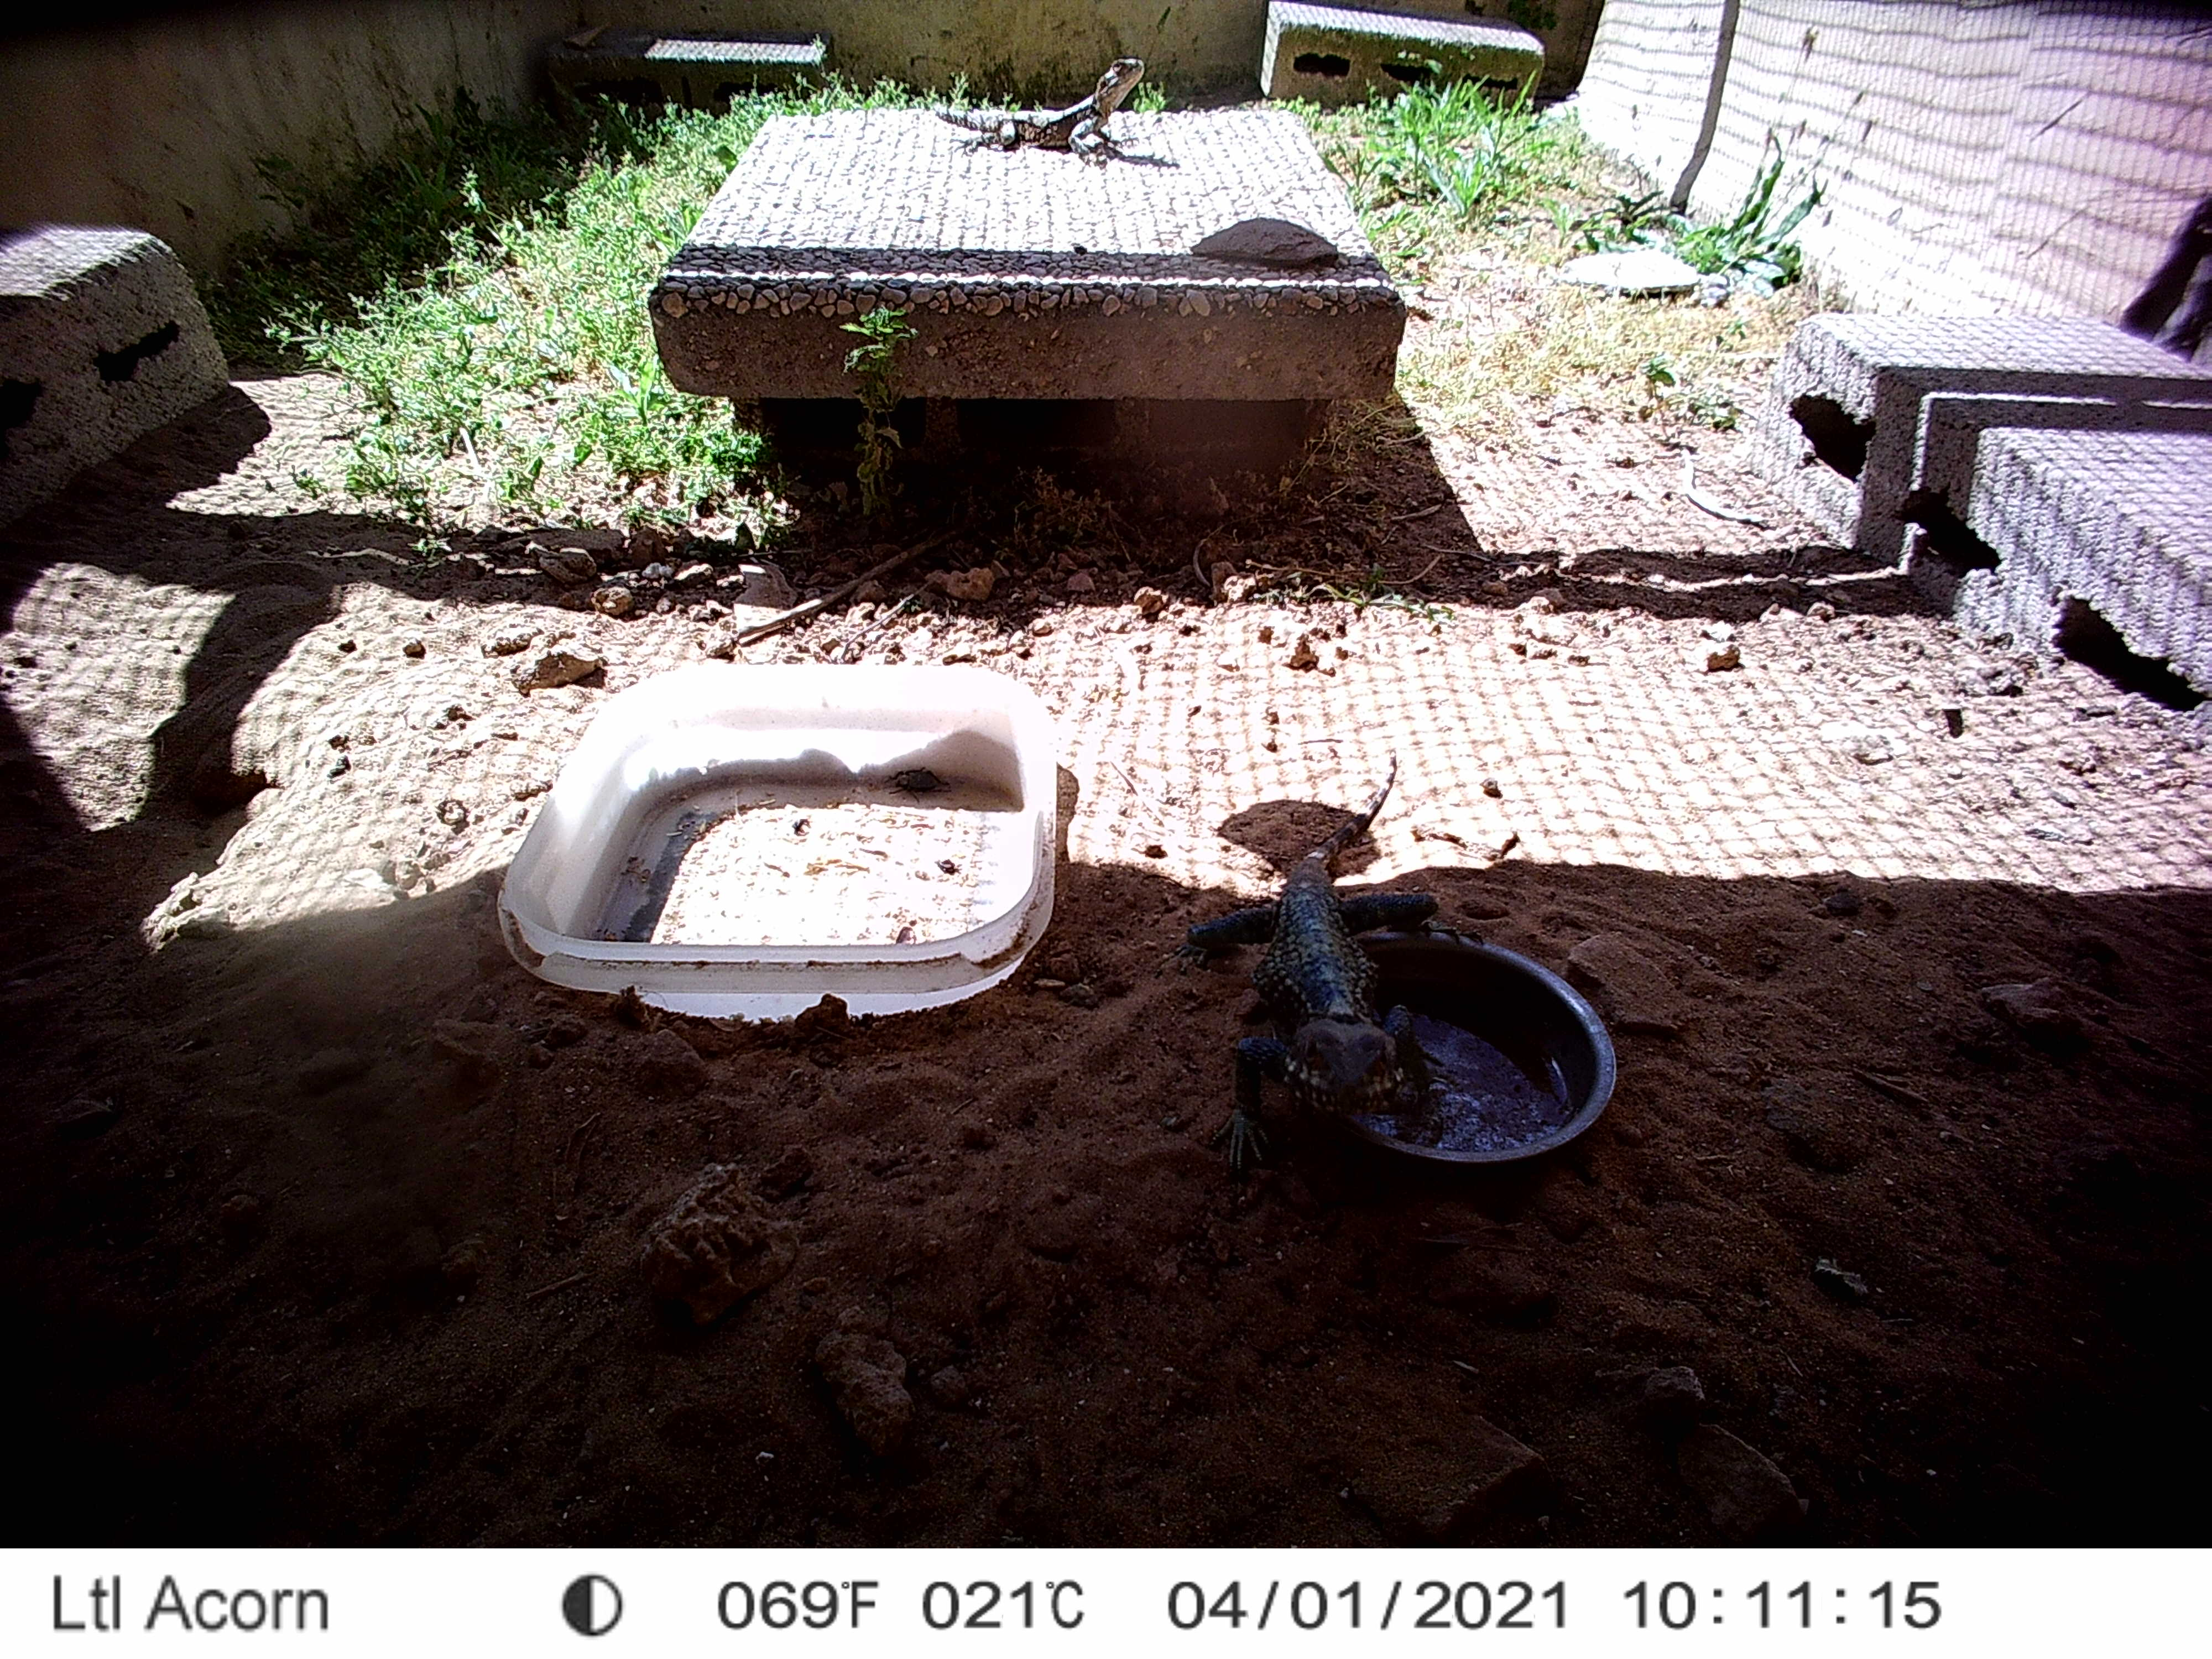lizard: (1202, 756, 1475, 1180), (937, 52, 1150, 164)
